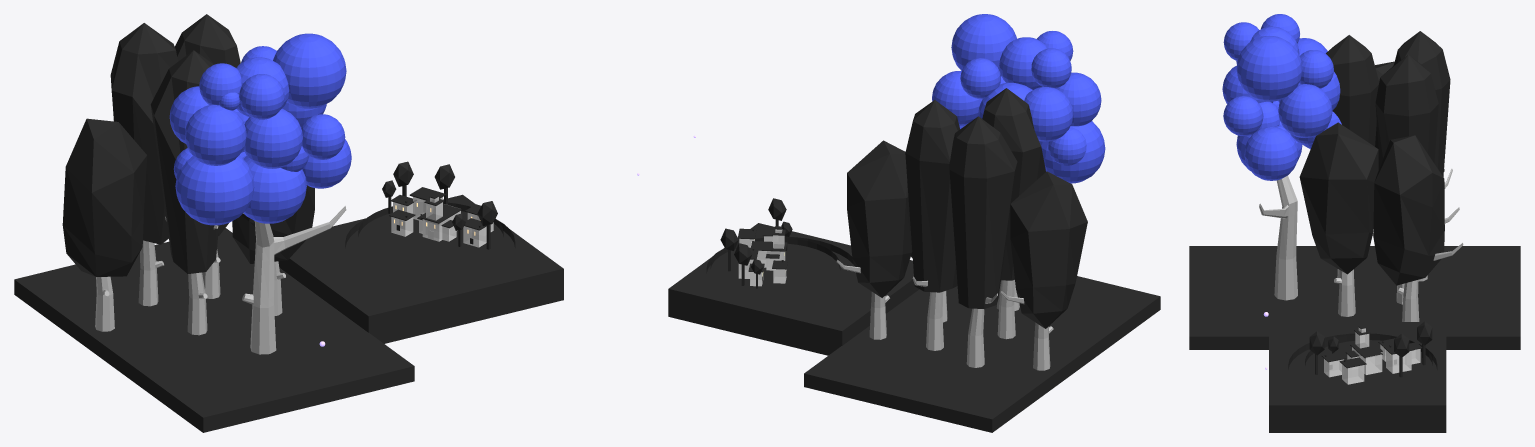
Rendered from mysterieux1.fbx.
The picture shows the model from 3 angles, left to right: view 1: azimuth 30°, elevation 25°; view 2: azimuth 150°, elevation 25°; view 3: azimuth 270°, elevation 25°; orthographic projection. The views are drawn at different scales.
Visible parts, largest first — view 1: Plan_1, Plan, Solide_Platonicien_2, Cylindre_8, Cylindre_1, Disque_1, Sphère_4, Sphère_5, Cylindre, Sphère_10, Sphère_13, Sphère_8 (+11 smaller); view 2: Plan_1, Plan, Cylindre_8, Solide_Platonicien_2, Cylindre_5, Solide_Platonicien_1, Disque_1, Cylindre_1, Sphère_5, Sphère_3, Sphère_4, Sphère_1 (+12 smaller); view 3: Plan_1, Plan, Solide_Platonicien_1, Solide_Platonicien, Cylindre_5, Cylindre_1, Sphère_5, Disque_1, Cylindre, Cylindre_8, Sphère_2, Sphère_20 (+16 smaller).
Part boxes in pixels (<box>): Plan_1: <box>14,228,414,432</box>; Plan: <box>278,194,563,343</box>; Solide_Platonicien_2: <box>62,118,147,276</box>; Cylindre_8: <box>110,23,177,244</box>; Cylindre_1: <box>150,50,219,273</box>; Disque_1: <box>358,202,503,269</box>; Sphère_4: <box>175,155,254,225</box>; Sphère_5: <box>273,33,346,108</box>; Cylindre: <box>242,206,346,354</box>; Sphère_10: <box>185,105,246,165</box>; Sphère_13: <box>243,156,306,223</box>; Sphère_8: <box>243,108,302,168</box>; Plan_1: <box>804,276,1160,432</box>; Plan: <box>668,223,919,355</box>; Cylindre_8: <box>949,116,1017,308</box>; Solide_Platonicien_2: <box>1010,171,1087,328</box>; Cylindre_5: <box>905,100,959,292</box>; Solide_Platonicien_1: <box>847,140,912,297</box>; Disque_1: <box>710,238,840,297</box>; Cylindre_1: <box>982,88,1045,280</box>; Sphère_5: <box>951,14,1016,76</box>; Sphère_3: <box>1024,87,1073,141</box>; Sphère_4: <box>1039,121,1105,183</box>; Sphère_1: <box>999,37,1047,89</box>; Plan_1: <box>1189,246,1520,349</box>; Plan: <box>1269,322,1446,432</box>; Solide_Platonicien_1: <box>1373,135,1444,285</box>; Solide_Platonicien: <box>1299,122,1378,274</box>; Cylindre_5: <box>1375,55,1438,166</box>; Cylindre_1: <box>1326,35,1379,146</box>; Sphère_5: <box>1236,36,1302,101</box>; Disque_1: <box>1305,334,1432,393</box>; Cylindre: <box>1259,175,1297,300</box>; Cylindre_8: <box>1393,31,1450,176</box>; Sphère_2: <box>1244,126,1298,180</box>; Sphère_20: <box>1278,84,1332,137</box>.
Bounding box in the file's own units: 153 × 95.63 × 101.
